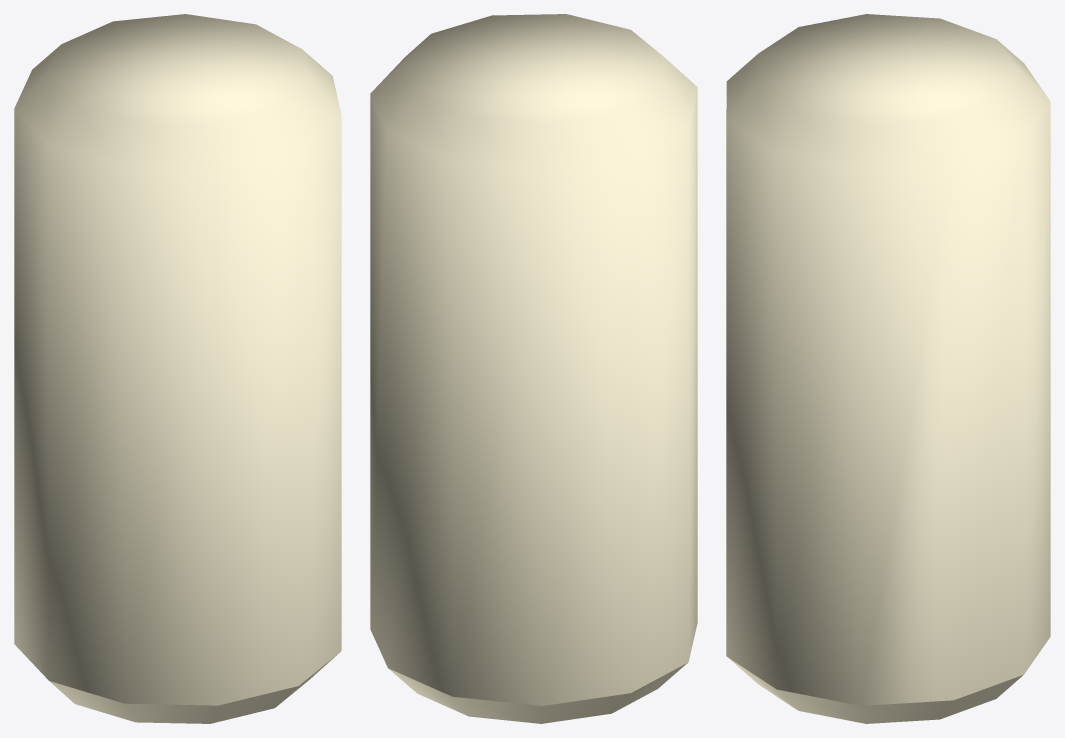
Rendered from Vela_sola.fbx.
3 views of the same model, side by side, from view 1: azimuth 30°, elevation 25°; view 2: azimuth 150°, elevation 25°; view 3: azimuth 270°, elevation 25° (orthographic).
Visible parts, largest first — view 1: vela_sola; view 2: vela_sola; view 3: vela_sola.
Boxes of the visible parts, <box> form: vela_sola: <box>14,14,341,723</box>; vela_sola: <box>370,14,697,723</box>; vela_sola: <box>726,14,1050,723</box>.
Bounding box in the file's own units: 27.49 × 55.54 × 27.22.
Materials: 1 (1 with a texture image).
